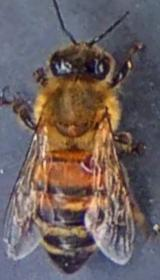varroa_mite: (78, 152, 110, 174)
